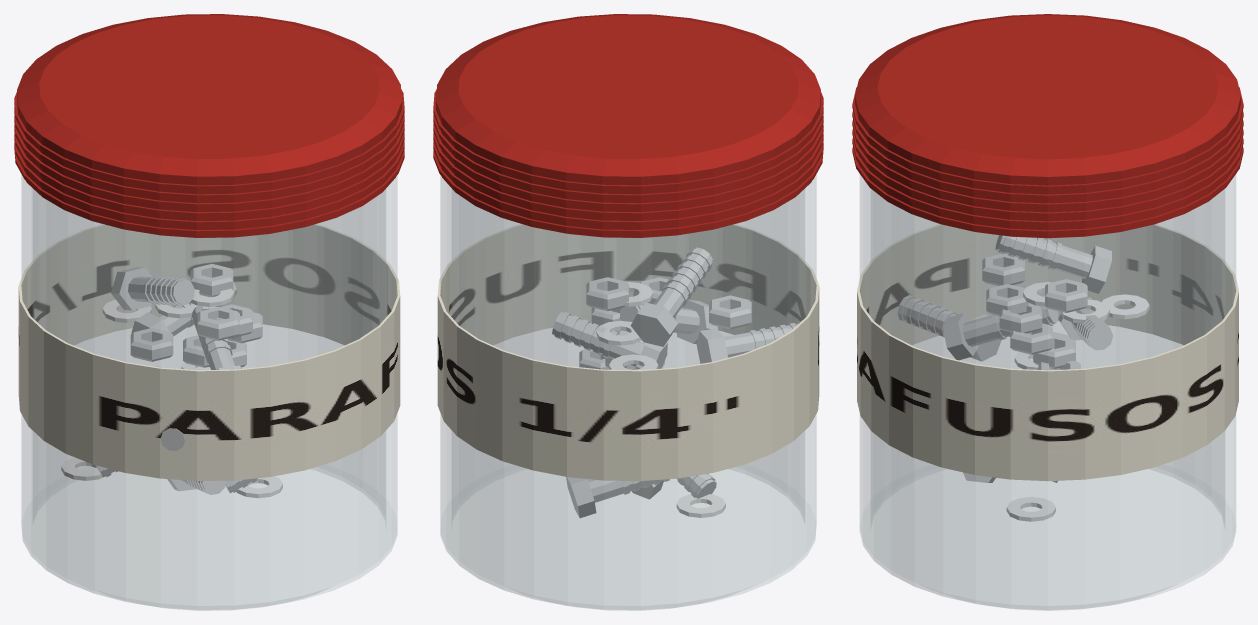
Rendered from pote_parafusos.glb.
3 renders of one model, left to right at view 1: azimuth 30°, elevation 25°; view 2: azimuth 150°, elevation 25°; view 3: azimuth 270°, elevation 25°, orthographic.
Parts seen in each view (by area): view 1: pote_parafusos_vidro_prateleira, pote_parafusos_tinta_vermelha, pote_parafusos_etiqueta_pote, pote_parafusos_aco, pote_parafusos_aco_polido; view 2: pote_parafusos_vidro_prateleira, pote_parafusos_tinta_vermelha, pote_parafusos_etiqueta_pote, pote_parafusos_aco, pote_parafusos_aco_polido; view 3: pote_parafusos_vidro_prateleira, pote_parafusos_tinta_vermelha, pote_parafusos_etiqueta_pote, pote_parafusos_aco, pote_parafusos_aco_polido.
Part boxes in pixels (left/top/right/bottom): pote_parafusos_vidro_prateleira: left=21, top=174, right=397, bottom=610; pote_parafusos_tinta_vermelha: left=14, top=14, right=404, bottom=237; pote_parafusos_etiqueta_pote: left=18, top=224, right=400, bottom=480; pote_parafusos_aco: left=96, top=264, right=262, bottom=494; pote_parafusos_aco_polido: left=61, top=288, right=282, bottom=498; pote_parafusos_vidro_prateleira: left=440, top=174, right=816, bottom=610; pote_parafusos_tinta_vermelha: left=433, top=14, right=823, bottom=237; pote_parafusos_etiqueta_pote: left=437, top=224, right=819, bottom=480; pote_parafusos_aco: left=552, top=247, right=799, bottom=517; pote_parafusos_aco_polido: left=596, top=282, right=725, bottom=517; pote_parafusos_vidro_prateleira: left=859, top=175, right=1236, bottom=610; pote_parafusos_tinta_vermelha: left=852, top=14, right=1243, bottom=238; pote_parafusos_etiqueta_pote: left=857, top=224, right=1238, bottom=481; pote_parafusos_aco: left=898, top=235, right=1112, bottom=482; pote_parafusos_aco_polido: left=1006, top=282, right=1149, bottom=521.
Size of the model in its own units: 0.0872 by 0.112 by 0.0872.
Materials: 5 (1 with a texture image).
